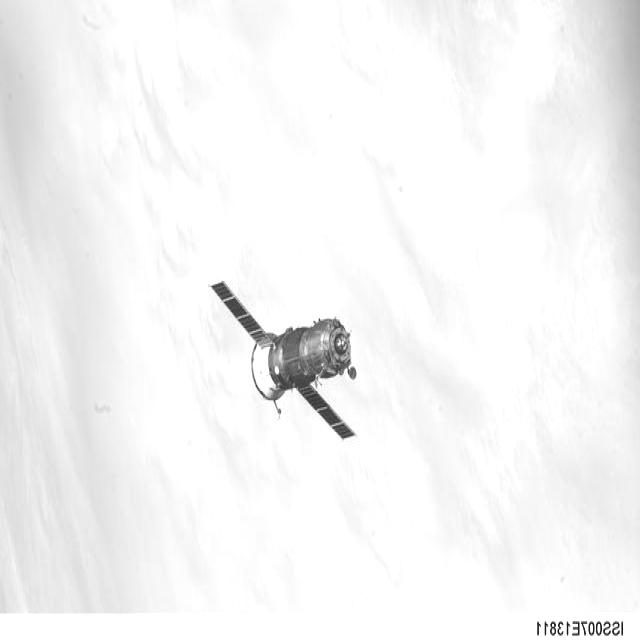satellite: (211, 282, 356, 438)
